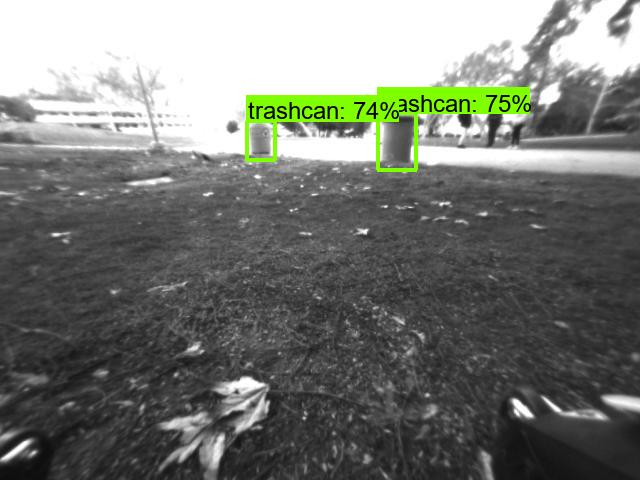trashcan: (376, 112, 414, 170), (244, 120, 279, 164)
